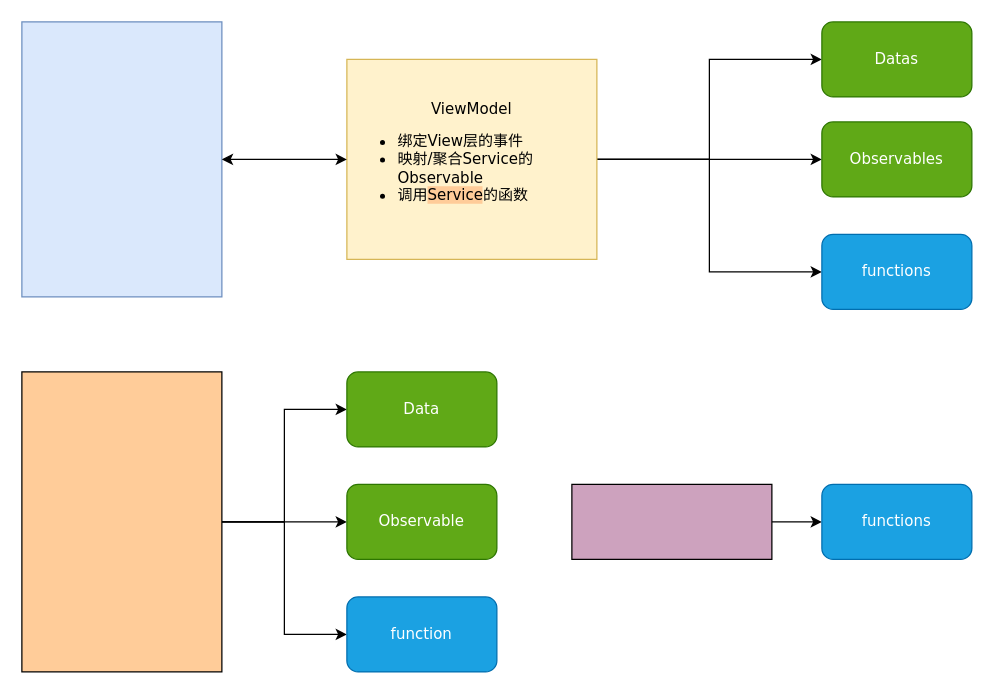
Image size: 994x694. Some labels were removed from this diagram. The centre of each missing label's shape, as x and y in pixels:
ApiProvider: point 671,521
Service 存储数据 提供function和Observable 调用 ApiProvider 调用定位 调用蓝牙 ...: point 121,521
View (或ViewController) 持有ViewModel 订阅Observable 调用function: point 121,159
